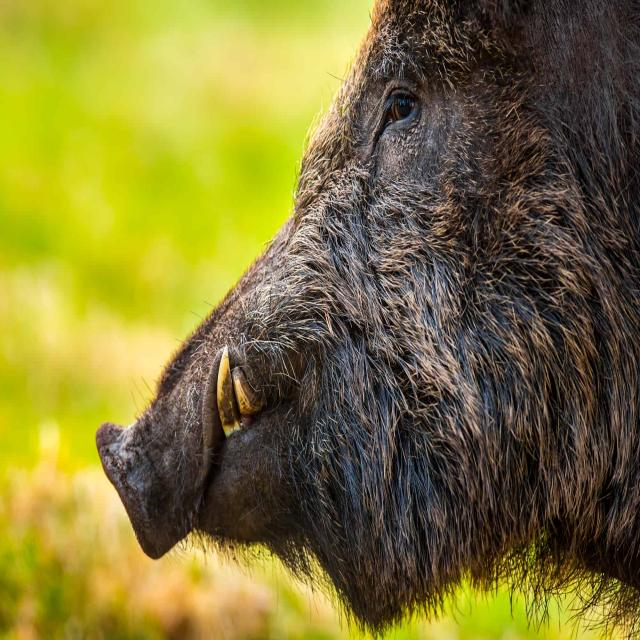Boar: (93, 0, 640, 640)
